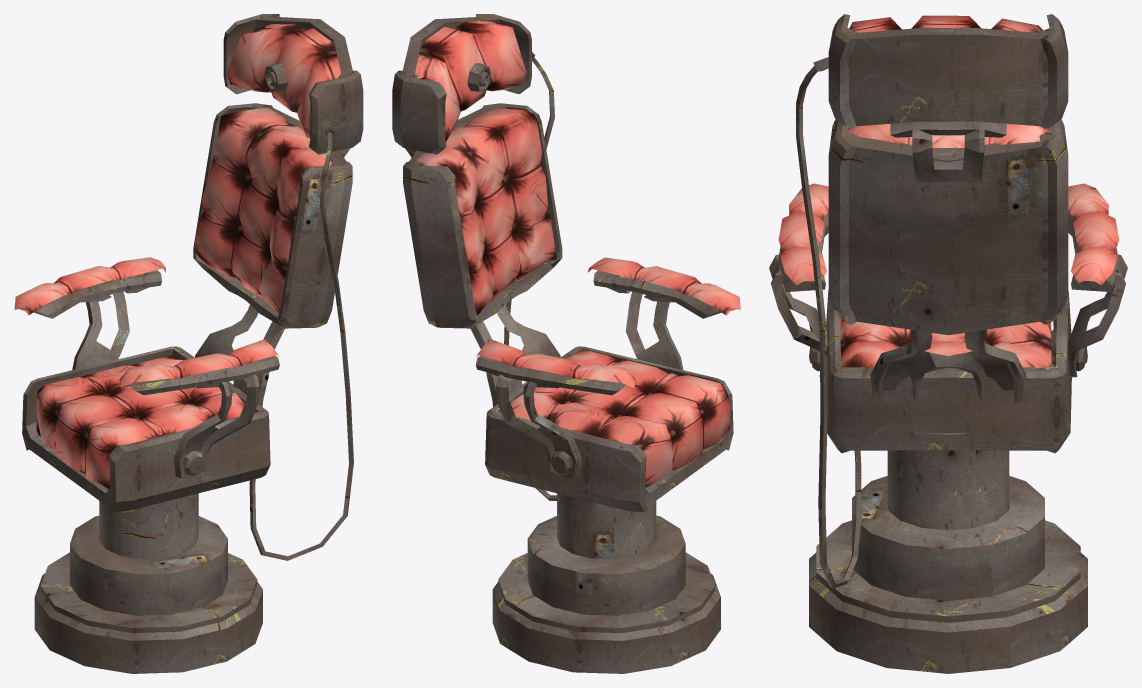
File: Chair.FBX
The picture shows the model from 3 angles, left to right: view 1: azimuth 30°, elevation 25°; view 2: azimuth 150°, elevation 25°; view 3: azimuth 270°, elevation 25°; orthographic projection. The views are drawn at different scales.
Visible parts, largest first — view 1: goZB12, Plane189; view 2: goZB12, Plane189; view 3: goZB12, Plane189.
Part boxes in pixels (x1,y1,x2,y2): goZB12: [22, 14, 363, 673]; Plane189: [14, 23, 340, 489]; goZB12: [392, 14, 733, 673]; Plane189: [415, 21, 740, 487]; goZB12: [769, 14, 1127, 673]; Plane189: [778, 15, 1119, 367].
Bounding box in the file's own units: 16.75 × 29.56 × 13.9.
